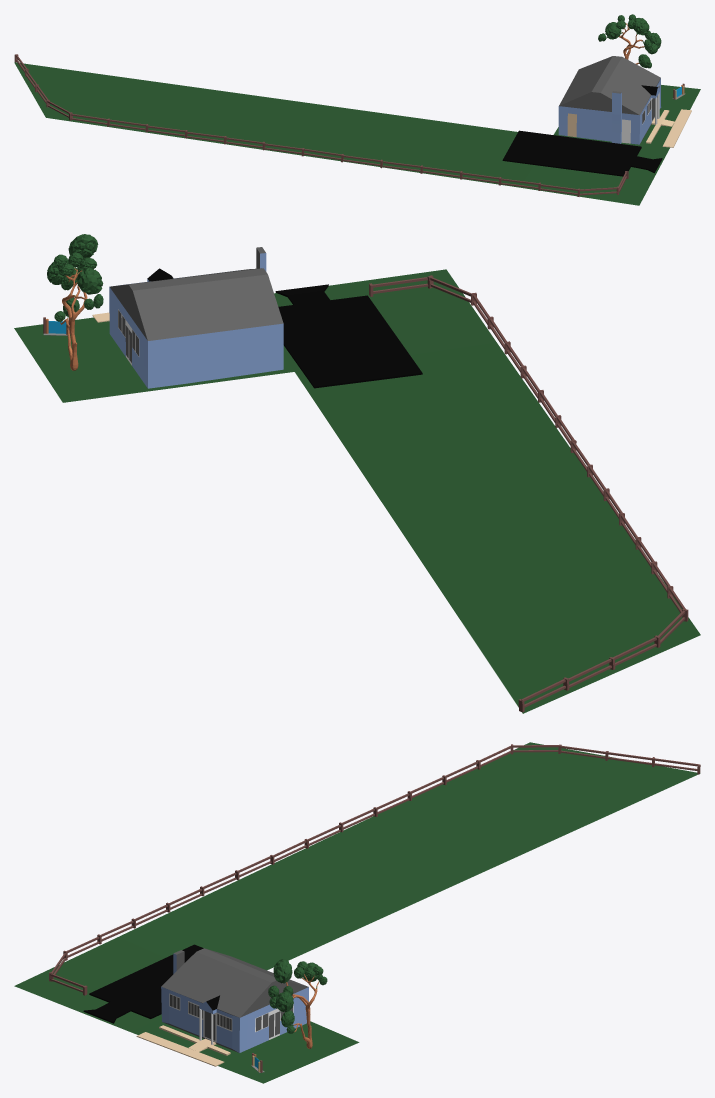
File: capeclubhouse6.glb
3 views of the same model, one above another, from view 1: azimuth 30°, elevation 25°; view 2: azimuth 150°, elevation 25°; view 3: azimuth 270°, elevation 25° (orthographic). The views are drawn at different scales.
Visible parts, largest first — view 1: Pine_Plane.002; view 2: Pine_Plane.002; view 3: Pine_Plane.002.
Boxes of the visible parts, x1=… form: Pine_Plane.002: x1=14, y1=14, x2=700, y2=205; Pine_Plane.002: x1=14, y1=234, x2=700, y2=713; Pine_Plane.002: x1=14, y1=742, x2=700, y2=1083.
Size of the model in its own units: 0.2857 by 0.0391 by 0.263.
